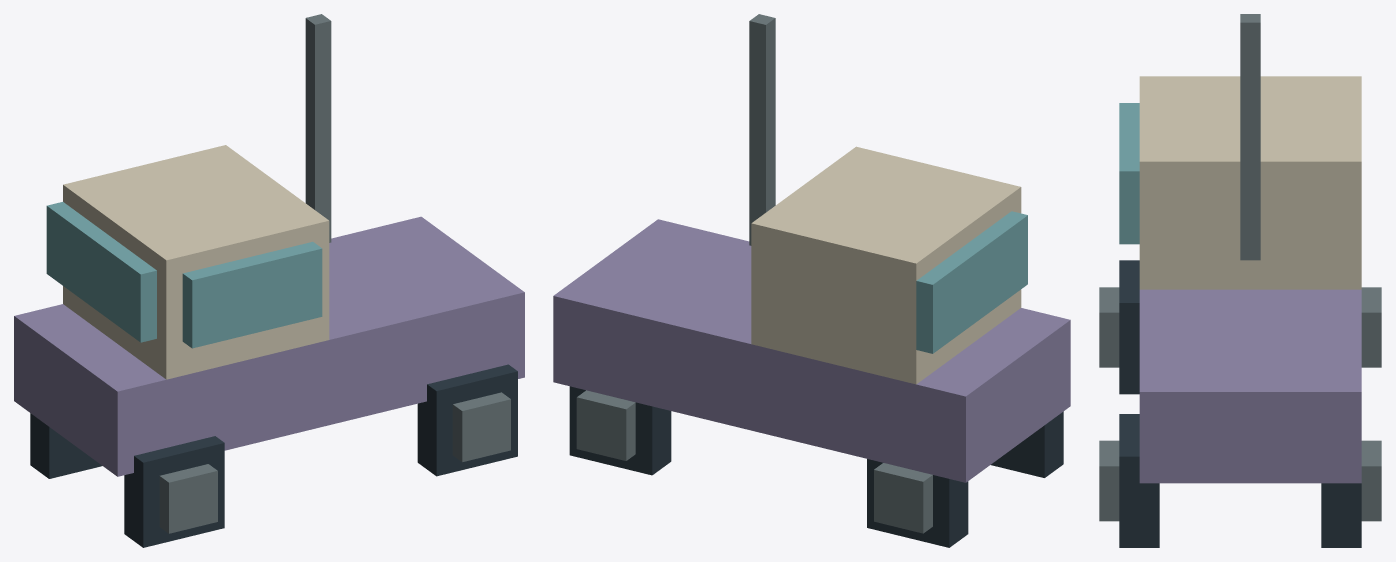
File: astronomy-07.glb
3 views of the same model, side by side, from view 1: azimuth 30°, elevation 25°; view 2: azimuth 150°, elevation 25°; view 3: azimuth 270°, elevation 25° (orthographic). The views are drawn at different scales.
Visible parts, largest first — view 1: Moon lander; view 2: Moon lander; view 3: Moon lander.
Boxes of the visible parts, x1,y1,x2,y2 form: Moon lander: (14, 14, 524, 547); Moon lander: (553, 14, 1070, 547); Moon lander: (1099, 14, 1381, 547).
Bounding box in the file's own units: 2 × 2 × 1.12.
